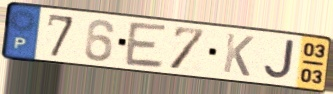6: (83, 17, 116, 63)
7: (170, 25, 207, 72), (46, 13, 77, 59)
E: (123, 20, 170, 71)
J: (262, 39, 296, 82)
K: (221, 31, 256, 79)
